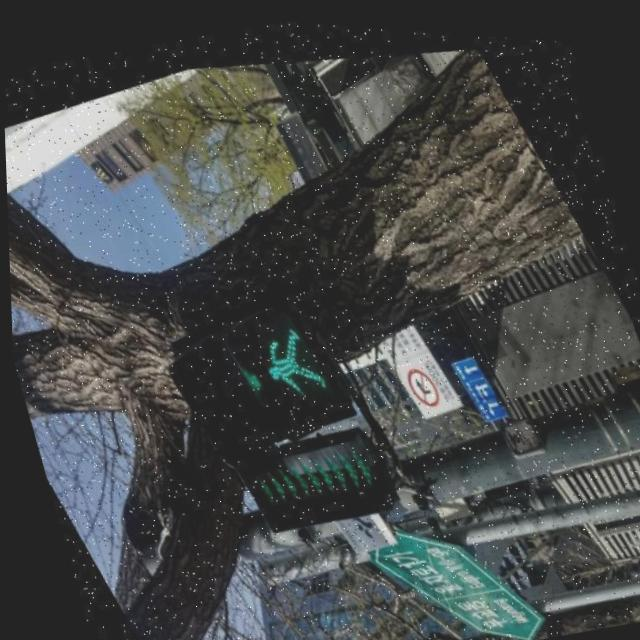green_light: (221, 280, 352, 440)
